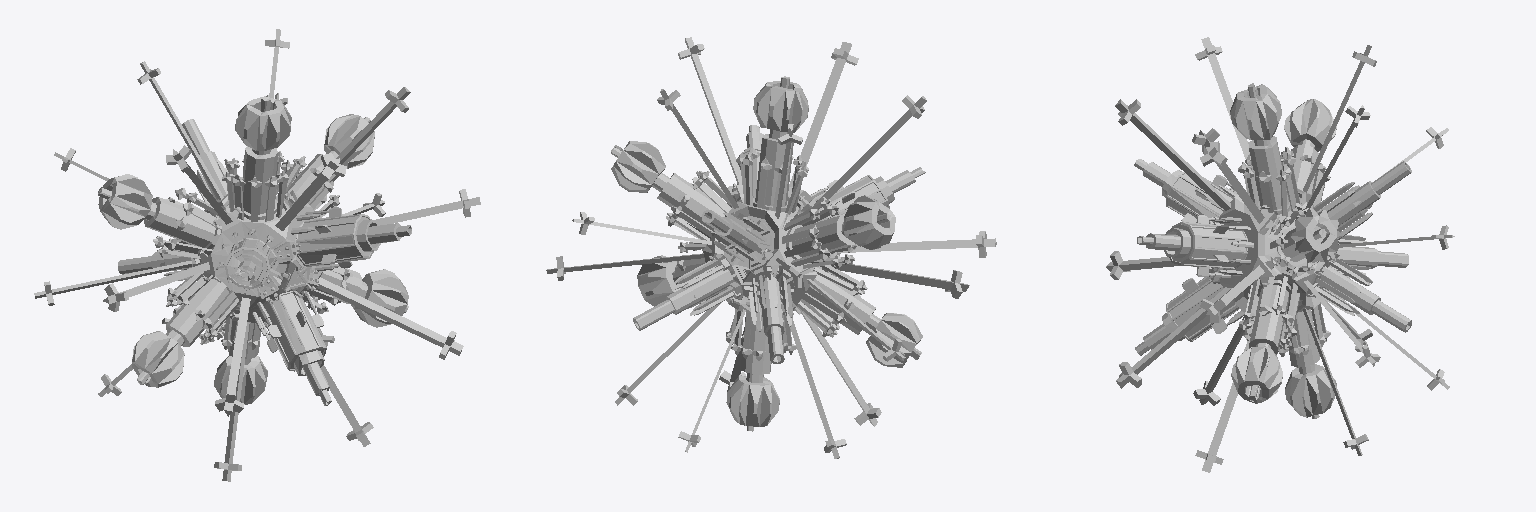
File: alien_spaceship.obj
3 views of the same model, side by side, from view 1: azimuth 30°, elevation 25°; view 2: azimuth 150°, elevation 25°; view 3: azimuth 270°, elevation 25° (orthographic).
Visible parts, largest first — view 1: Spaceship; view 2: Spaceship; view 3: Spaceship.
Part boxes in pixels (x1,y1,x2,y2): Spaceship: (34,29,480,481); Spaceship: (546,37,996,458); Spaceship: (1106,37,1454,472).
Bounding box in the file's own units: 5.31 × 4.84 × 4.22.